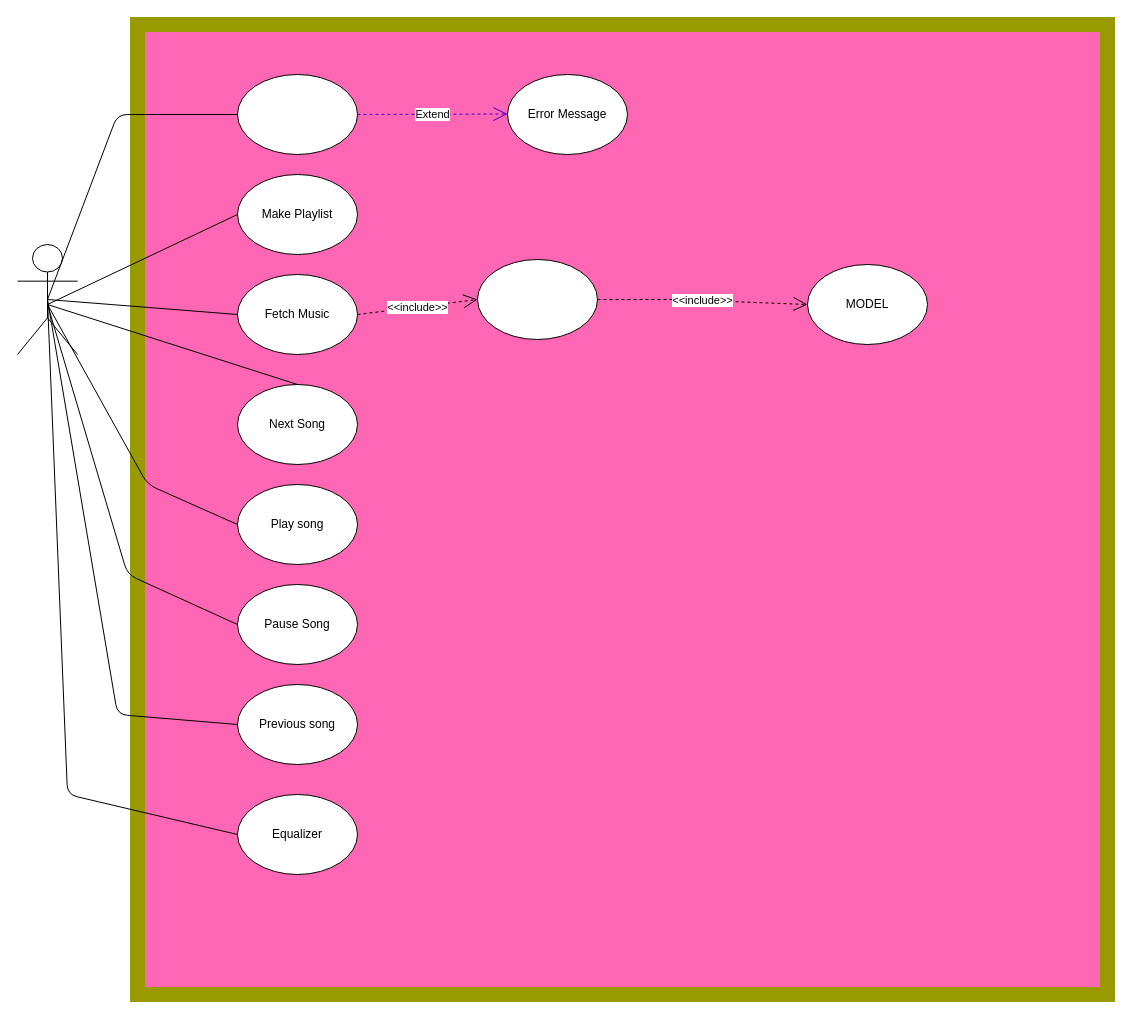
Image size: 1132x1019. Some labels were removed from this diagram. Here are the shapes that lost their labels. From the top down, the box of each, then its label:
(236, 74, 358, 154): Search
(16, 244, 78, 354): User
(476, 258, 598, 340): File Converter
